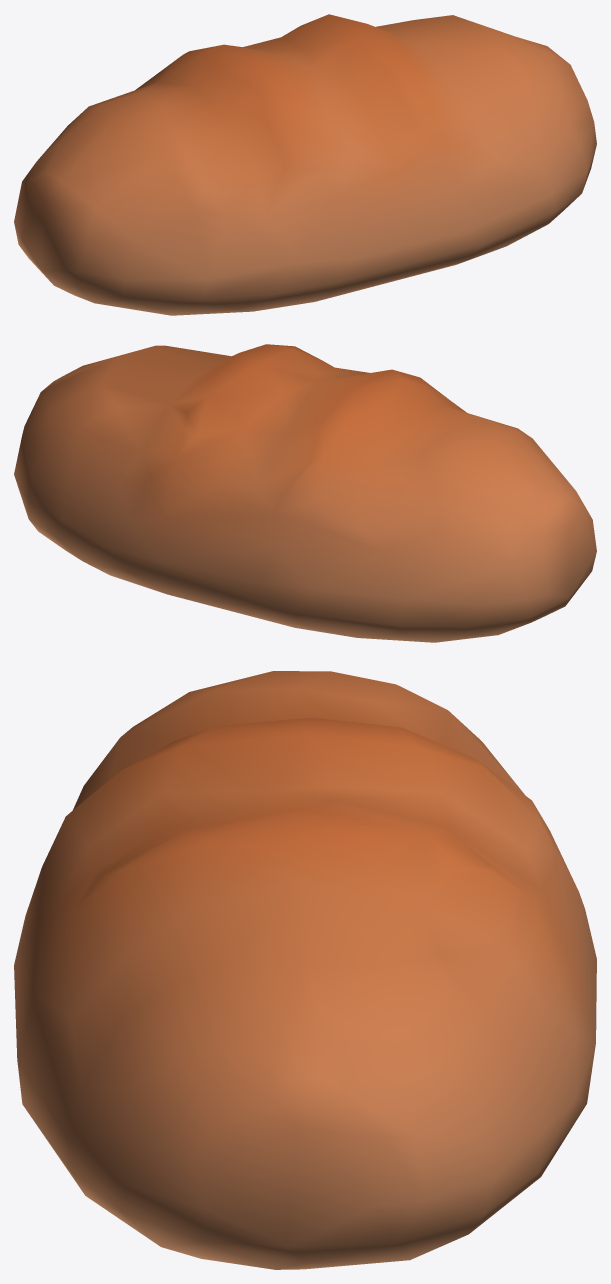
The model's file is Bread_1.fbx.
The picture shows the model from 3 angles, top to bottom: view 1: azimuth 30°, elevation 25°; view 2: azimuth 150°, elevation 25°; view 3: azimuth 270°, elevation 25°; orthographic projection. The views are drawn at different scales.
Parts seen in each view (by area): view 1: Bread_1; view 2: Bread_1; view 3: Bread_1.
Part boxes in pixels (bbox=[...]): Bread_1: bbox=[14, 14, 596, 315]; Bread_1: bbox=[14, 344, 596, 642]; Bread_1: bbox=[14, 671, 596, 1269].
Bounding box in the file's own units: 34.63 × 13.28 × 20.
